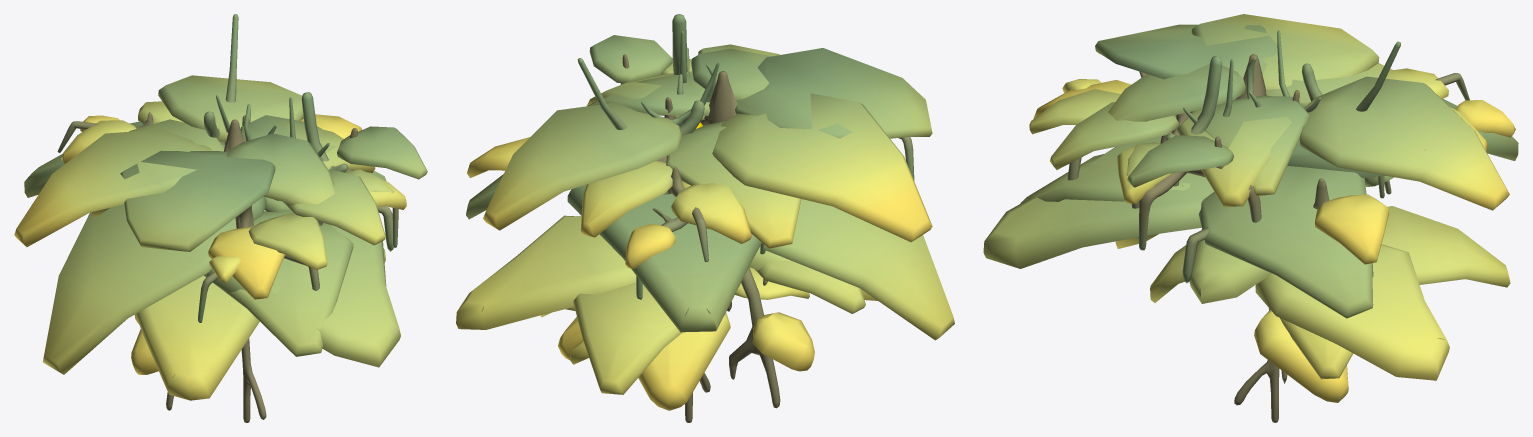
Rendered from Light.fbx.
3 views of the same model, side by side, from view 1: azimuth 30°, elevation 25°; view 2: azimuth 150°, elevation 25°; view 3: azimuth 270°, elevation 25° (orthographic). The views are drawn at different scales.
Parts seen in each view (by area): view 1: Light_Leaf__Ground, Light_Leaf__Ground_2, Light_Leaf_2, Light_Leaf, Light_Body_2, Light_Body, Light_Body_Ground, Light_Body_Ground._2; view 2: Light_Leaf__Ground, Light_Leaf, Light_Leaf_2, Light_Leaf__Ground_2, Light_Body, Light_Body_Ground, Light_Body_2, Light_Body_Ground._2; view 3: Light_Leaf__Ground, Light_Leaf, Light_Leaf_2, Light_Leaf__Ground_2, Light_Body_Ground, Light_Body, Light_Body_2, Light_Body_Ground._2.
Boxes of the visible parts, x1,y1,x2,y2 form: Light_Leaf__Ground: (14, 75, 406, 299); Light_Leaf__Ground_2: (91, 115, 427, 282); Light_Leaf_2: (43, 171, 386, 374); Light_Leaf: (24, 121, 400, 400); Light_Body_2: (204, 14, 348, 172); Light_Body: (166, 95, 329, 422); Light_Body_Ground: (57, 112, 393, 290); Light_Body_Ground._2: (198, 115, 398, 322); Light_Leaf__Ground: (467, 48, 932, 269); Light_Leaf: (456, 185, 877, 410); Light_Leaf_2: (466, 174, 954, 394); Light_Leaf__Ground_2: (587, 35, 932, 248); Light_Body: (641, 30, 780, 422); Light_Body_Ground: (636, 71, 765, 299); Light_Body_2: (577, 14, 767, 311); Light_Body_Ground._2: (593, 54, 914, 180); Light_Leaf__Ground: (1033, 14, 1515, 264); Light_Leaf: (983, 99, 1518, 402); Light_Leaf_2: (1020, 115, 1510, 379); Light_Leaf__Ground_2: (1029, 24, 1392, 195); Light_Body_Ground: (1067, 54, 1469, 283); Light_Body: (1183, 30, 1321, 422); Light_Body_2: (1166, 41, 1400, 194); Light_Body_Ground._2: (1139, 71, 1299, 250).
Bounding box in the file's own units: 644 × 568 × 680.
